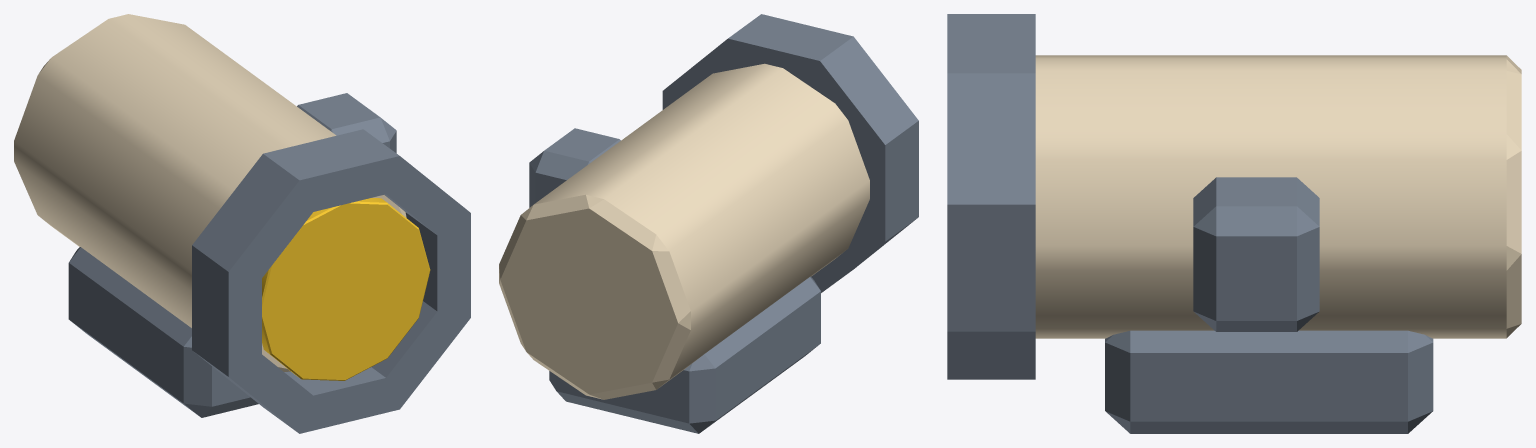
File: Module_Scope_v001.fbx
3 views of the same model, side by side, from view 1: azimuth 30°, elevation 25°; view 2: azimuth 150°, elevation 25°; view 3: azimuth 270°, elevation 25° (orthographic). The views are drawn at different scales.
Parts seen in each view (by area): view 1: Module_Scope__RECEIVER_MESH; view 2: Module_Scope__RECEIVER_MESH; view 3: Module_Scope__RECEIVER_MESH.
Boxes of the visible parts, x1,y1,x2,y2 form: Module_Scope__RECEIVER_MESH: [14, 14, 470, 433]; Module_Scope__RECEIVER_MESH: [499, 14, 918, 433]; Module_Scope__RECEIVER_MESH: [947, 14, 1521, 433].
Bounding box in the file's own units: 0.309 × 0.304 × 0.455.
